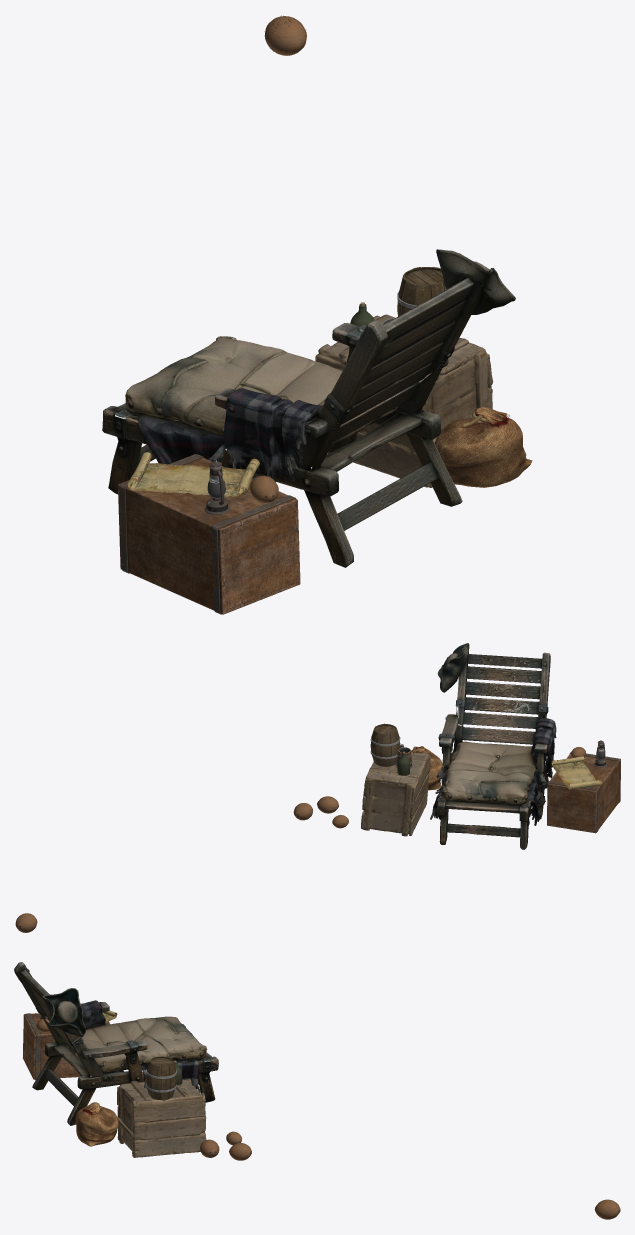
File: beach_foreground.glb
3 views of the same model, one above another, from view 1: azimuth 30°, elevation 25°; view 2: azimuth 150°, elevation 25°; view 3: azimuth 270°, elevation 25° (orthographic). The views are drawn at different scales.
Parts seen in each view (by area): view 1: Pirate_Beach_Chair_UE, Wooden Crate, SM_WoodenBox3, SM_canvas_bag4, old_map_3d_model2, SM_Barrel_SM_Barrel_Open_180, SM_coconut.004, SM_Lantern_3; view 2: Pirate_Beach_Chair_UE, SM_WoodenBox3, Wooden Crate, SM_Barrel_SM_Barrel_Open_180, old_map_3d_model2, SM_canvas_bag4; view 3: Pirate_Beach_Chair_UE, SM_WoodenBox3, Wooden Crate, SM_canvas_bag4, SM_Barrel_SM_Barrel_Open_180, SM_coconut.004.
Part boxes in pixels (x1,y1,x2,y2): Pirate_Beach_Chair_UE: (102, 249, 515, 567); Wooden Crate: (118, 454, 300, 614); SM_WoodenBox3: (315, 314, 493, 487); SM_canvas_bag4: (434, 406, 532, 487); old_map_3d_model2: (127, 452, 259, 496); SM_Barrel_SM_Barrel_Open_180: (397, 267, 446, 316); SM_coconut.004: (264, 15, 306, 55); SM_Lantern_3: (204, 459, 230, 514); Pirate_Beach_Chair_UE: (430, 643, 556, 849); SM_WoodenBox3: (361, 751, 430, 836); Wooden Crate: (547, 751, 620, 833); SM_Barrel_SM_Barrel_Open_180: (370, 723, 400, 766); old_map_3d_model2: (551, 756, 601, 789); SM_canvas_bag4: (411, 746, 443, 790); Pirate_Beach_Chair_UE: (14, 962, 218, 1125); SM_WoodenBox3: (117, 1078, 206, 1157); Wooden Crate: (23, 1013, 109, 1080); SM_canvas_bag4: (75, 1102, 118, 1146); SM_Barrel_SM_Barrel_Open_180: (145, 1056, 176, 1100); SM_coconut.004: (594, 1199, 620, 1219).
Bounding box in the file's own units: 4.23 × 1.71 × 6.34.
Materials: 12 (12 with a texture image).
